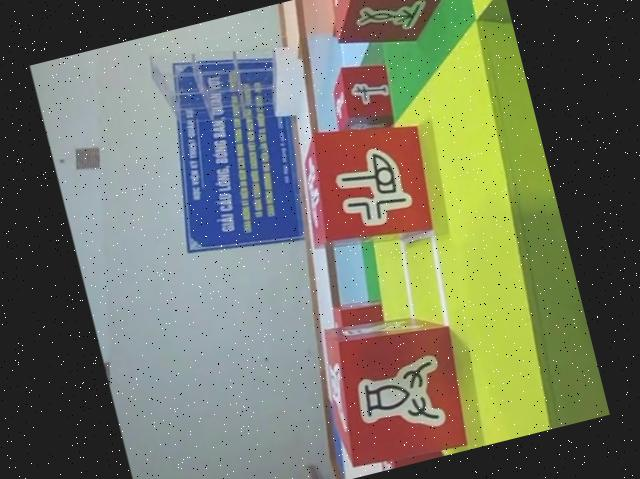R2 Real: (308, 299, 483, 479), (283, 103, 444, 260), (326, 0, 462, 63), (316, 52, 405, 143), (371, 430, 453, 472)
